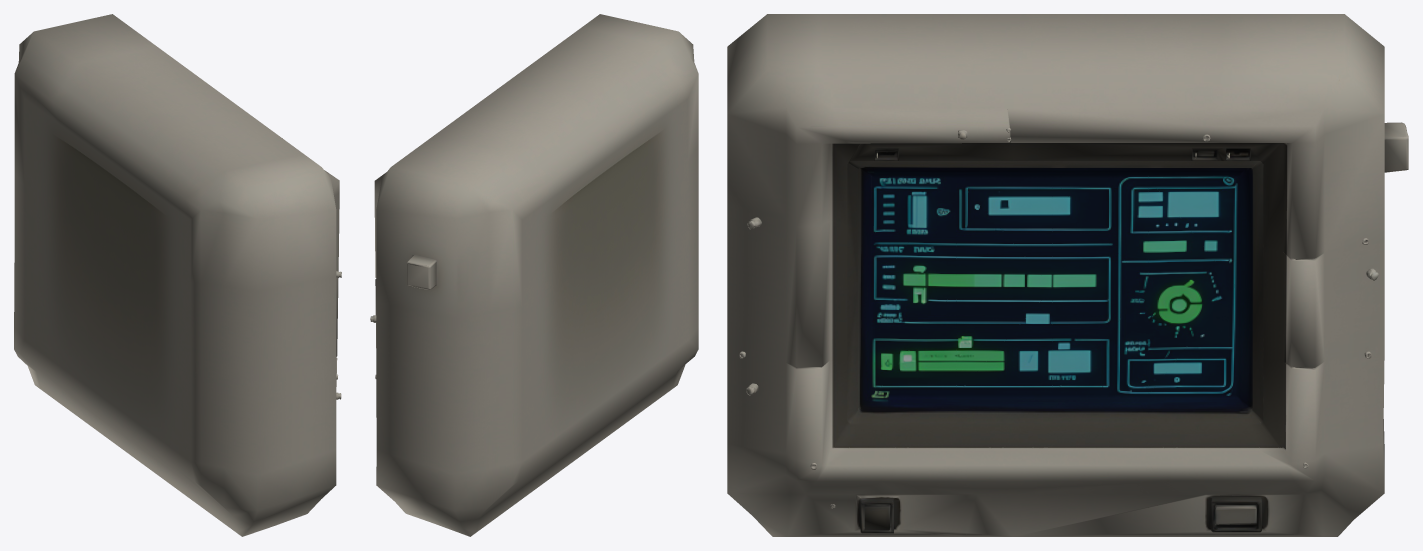
Rendered from power_screen.glb.
The picture shows the model from 3 angles, left to right: view 1: azimuth 30°, elevation 25°; view 2: azimuth 150°, elevation 25°; view 3: azimuth 270°, elevation 25°; orthographic projection. The views are drawn at different scales.
Visible parts, largest first — view 1: tripo_node_acf7df0b-975a-4a94-85b9-38336f8311d9; view 2: tripo_node_acf7df0b-975a-4a94-85b9-38336f8311d9; view 3: tripo_node_acf7df0b-975a-4a94-85b9-38336f8311d9.
Part boxes in pixels (box(x1,y1,x2,y2)): tripo_node_acf7df0b-975a-4a94-85b9-38336f8311d9: box(14, 14, 341, 536); tripo_node_acf7df0b-975a-4a94-85b9-38336f8311d9: box(370, 14, 698, 536); tripo_node_acf7df0b-975a-4a94-85b9-38336f8311d9: box(727, 14, 1408, 536).
Size of the model in its own units: 0.2516 by 0.6 by 0.7608.
Materials: 1 (1 with a texture image).
